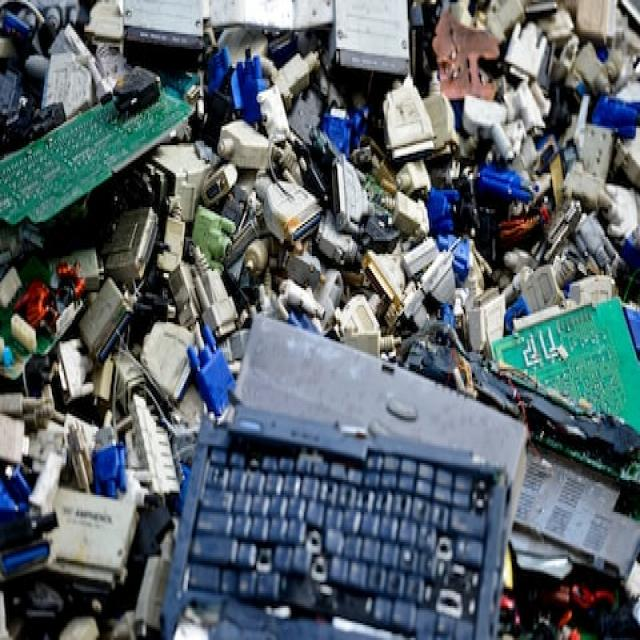hazard: (1, 0, 640, 640)
